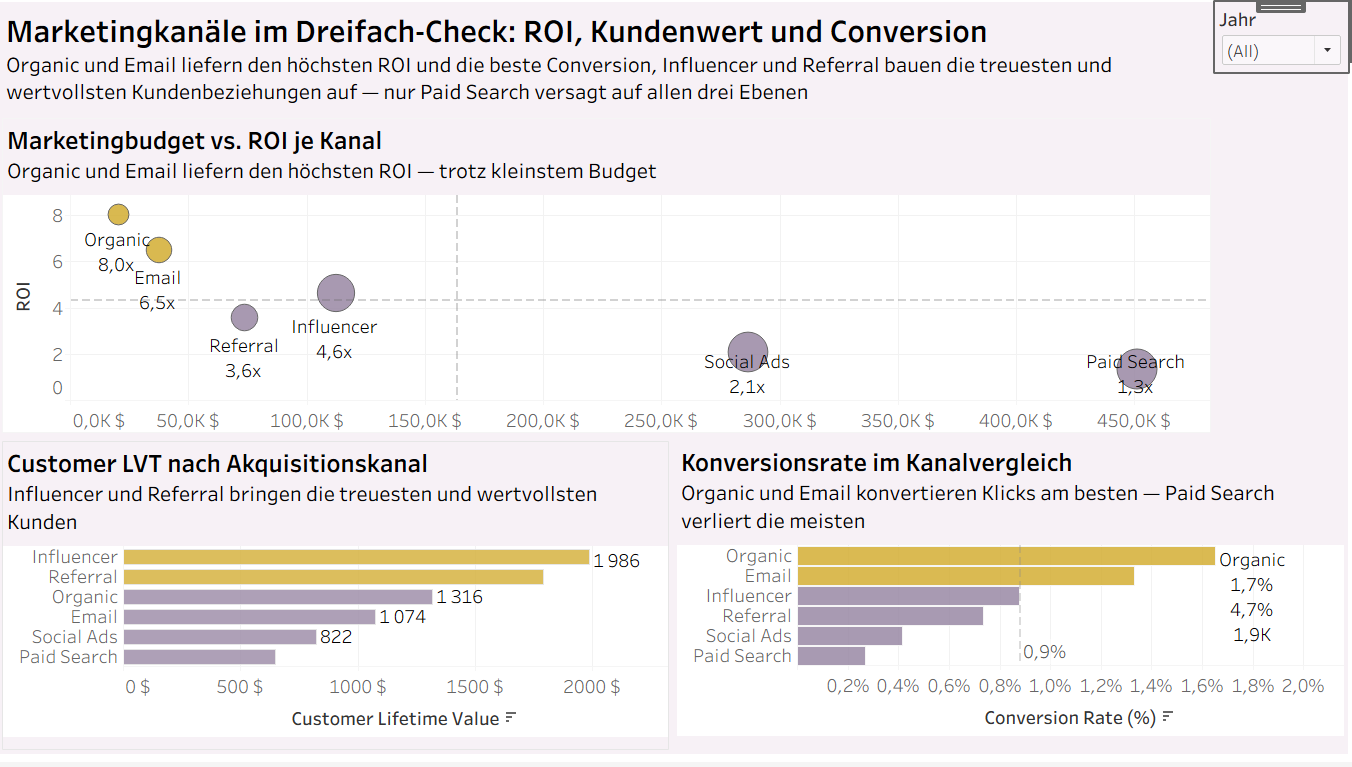

Layout of this report page (visuals, bound fields, positions):
{"tool":"tableau","page":{"name":"Case_A_Marketing","canvas":[1366,768],"ordinal":1},"visuals":[{"type":"title","box":[8,8,1217,112]},{"type":"filter","title":"Channel_Conversion_Funnel","param":"[federated.0qwvyr50piz0yi10odvf11nhx4iq].[none:order_year:ok]","box":[1225,8,133,70]},{"type":"worksheet","title":"Budget_vs_ROI_Scatter_2","mark":"Circle","rows":["Calculation_0495354972639240"],"cols":["total_budget"],"box":[8,120,1217,323]},{"type":"worksheet","title":"LTV Bar","mark":"Bar","rows":["acquisition_channel"],"cols":["avg_ltv_per_customer"],"box":[8,443,675,317]},{"type":"worksheet","title":"Channel_Conversion_Funnel","mark":"Bar","rows":["channel"],"cols":["Calculation_1548963051876355"],"box":[683,443,675,317]}]}

Visuals, with their boxes in screenshot pixels (x1, y1, x2, y2), scaled from the page's 1366x768 canvas onto the 1352x767 screenshot:
title: 8:8:1212:120
"Channel_Conversion_Funnel" filter: 1212:8:1344:78
"Budget_vs_ROI_Scatter_2" worksheet (Circle marks): 8:120:1212:442
"LTV Bar" worksheet (Bar marks): 8:442:676:759
"Channel_Conversion_Funnel" worksheet (Bar marks): 676:442:1344:759
